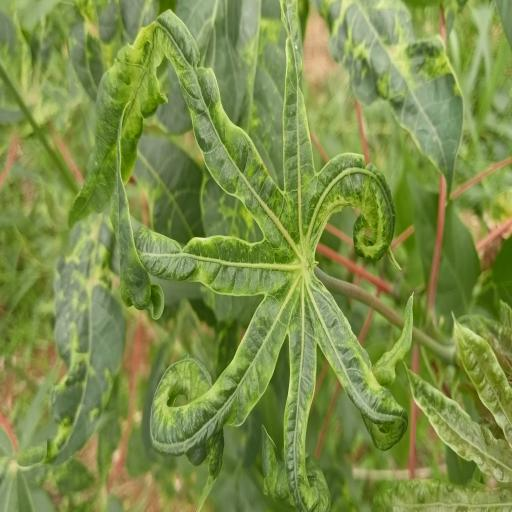Cassava_Mosaic: (67, 0, 416, 512)
